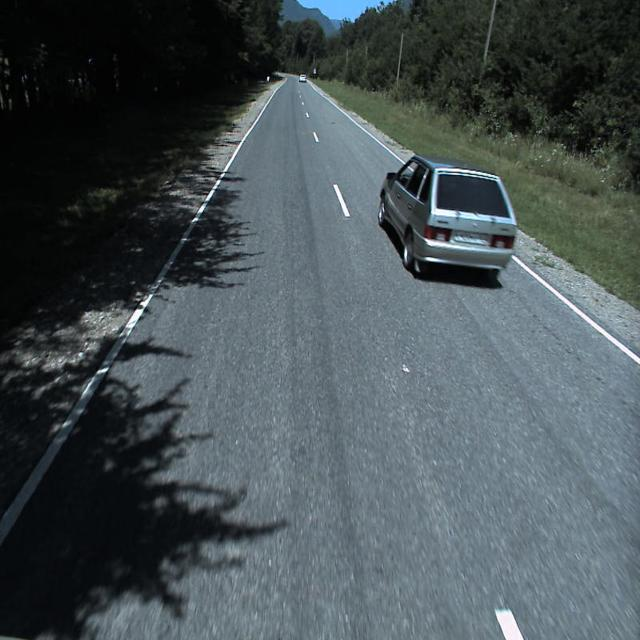road: (0, 74, 640, 639)
